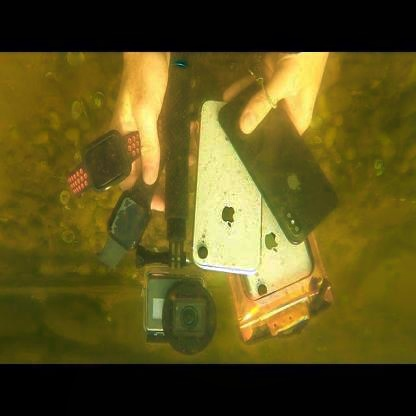cellphone: (216, 83, 339, 245), (192, 99, 265, 275), (227, 168, 315, 300)
electronics: (93, 131, 173, 272), (66, 116, 171, 199), (140, 266, 219, 358)
